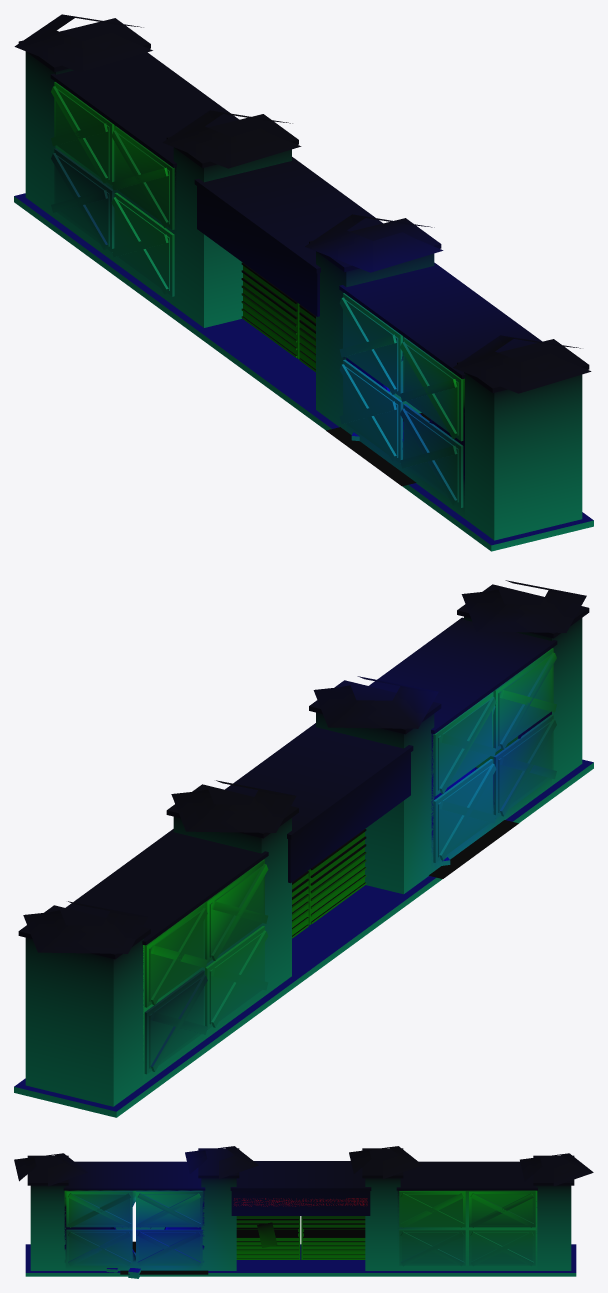
File: l_mediumgate_damaged.glb
3 renders of one model, top to bottom at view 1: azimuth 30°, elevation 25°; view 2: azimuth 150°, elevation 25°; view 3: azimuth 270°, elevation 25°, orthographic. The views are drawn at different scales.
Visible parts, largest first — view 1: lod0, door_l, door_r; view 2: lod0, door_r, door_l; view 3: lod0, door_l, door_r.
Boxes of the visible parts, left/top/right/bottom form: lod0: left=14, top=14, right=593, bottom=551; door_l: left=241, top=262, right=299, bottom=358; door_r: left=299, top=304, right=315, bottom=372; lod0: left=14, top=580, right=593, bottom=1117; door_r: left=308, top=829, right=366, bottom=925; door_l: left=292, top=870, right=308, bottom=938; lod0: left=14, top=1146, right=593, bottom=1278; door_l: left=301, top=1216, right=365, bottom=1259; door_r: left=236, top=1216, right=300, bottom=1259.
Size of what is drawn, in the model's own units: 8.2 by 12.22 by 59.41.
